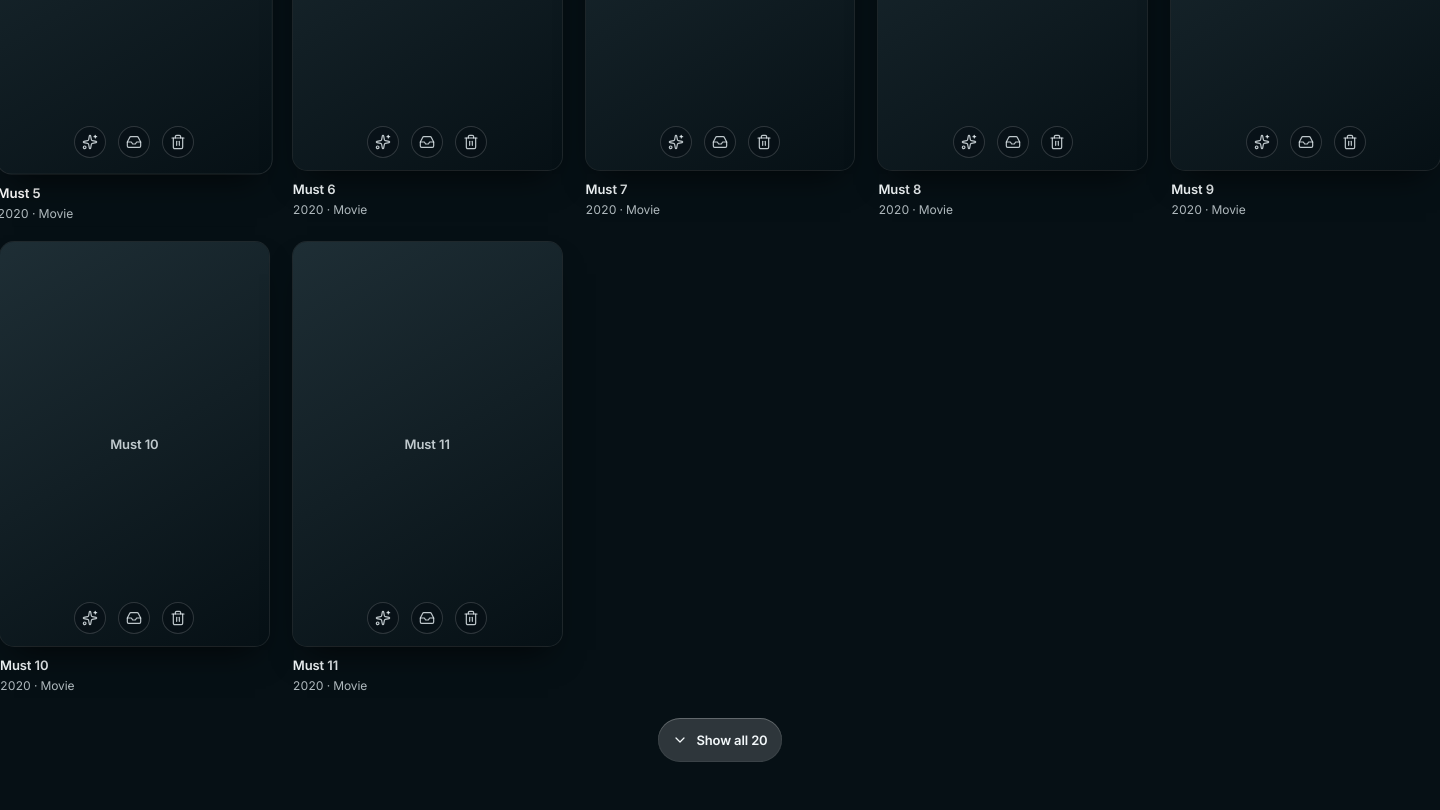
Test case: watchlist grouped load (F-32) › previews a bucket and expands it on demand instead of infinite-scrolling
(page scrolled)
Check: the text "Must 12" is not shown
Step 1. Click the button "Show all 20" → point(720, 740), box [658,718,782,762]
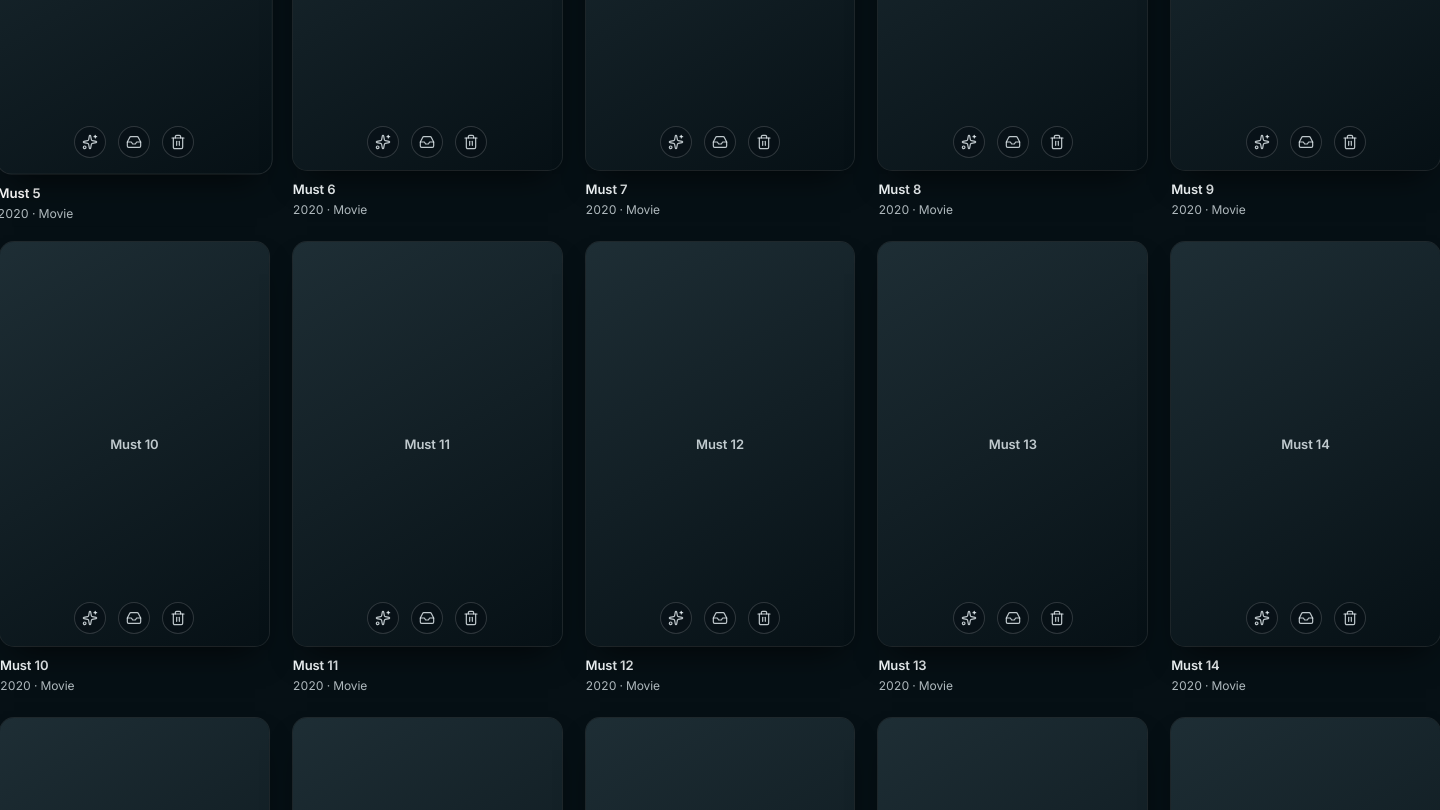
Check: the 2nd text "Must 12" is shown, box [586,657,634,673]
Check: the button "Show all 20" is gone
